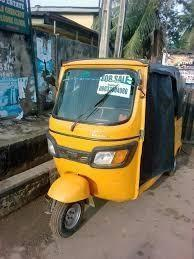keke: (44, 58, 194, 243)
